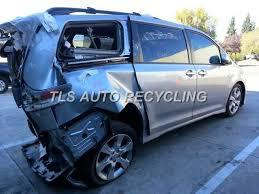pillar-dent: (18, 19, 60, 94)
quaterpanel-dent: (78, 71, 145, 122)
